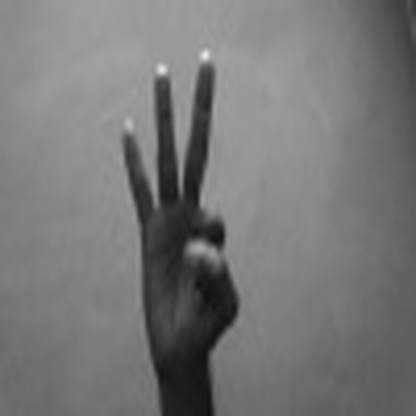f: (113, 43, 243, 374)
